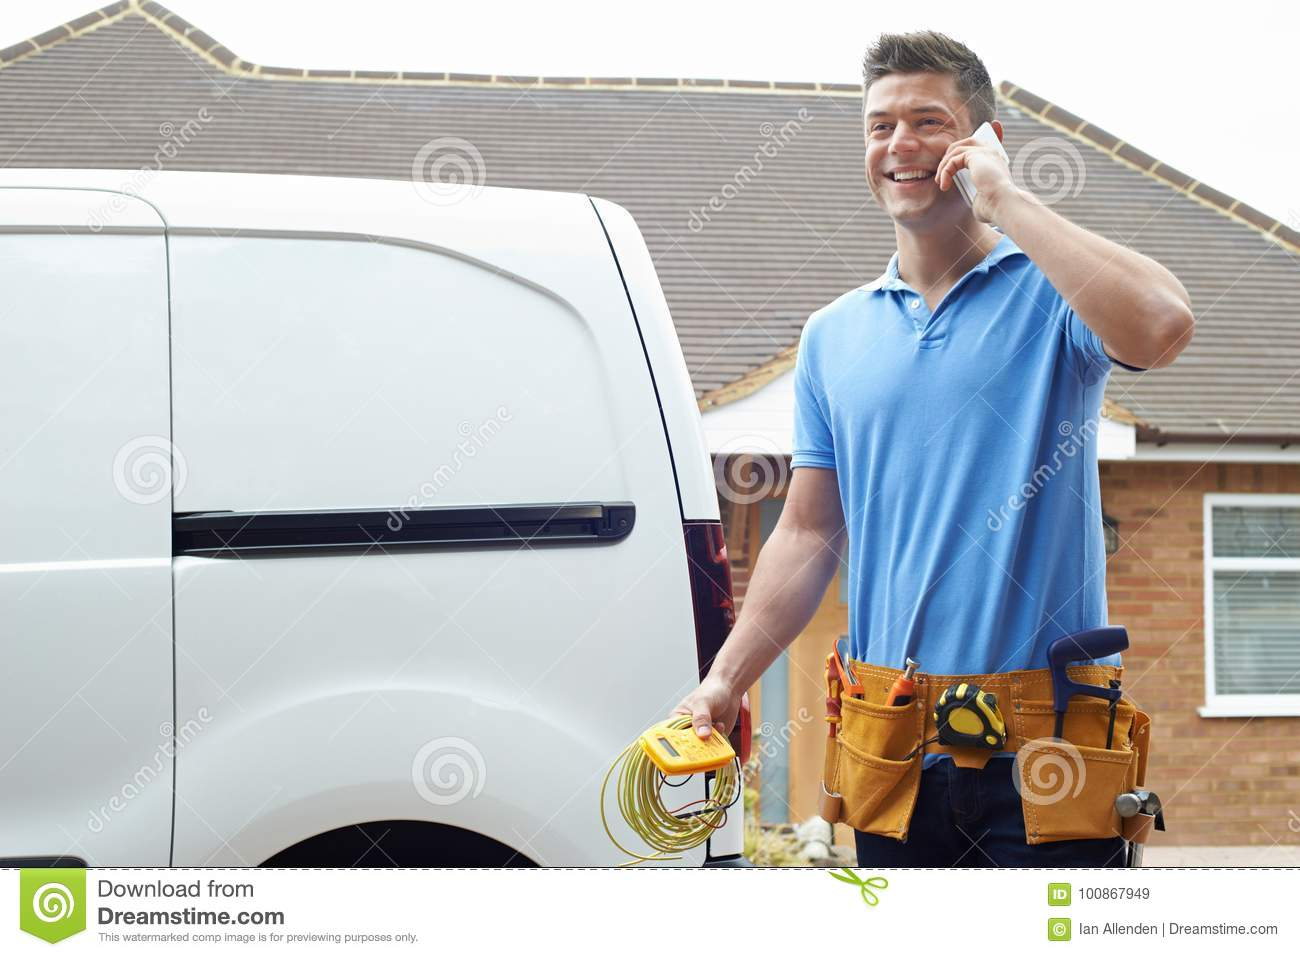phone: (954, 122, 1006, 208)
talk: (864, 100, 1018, 227)
